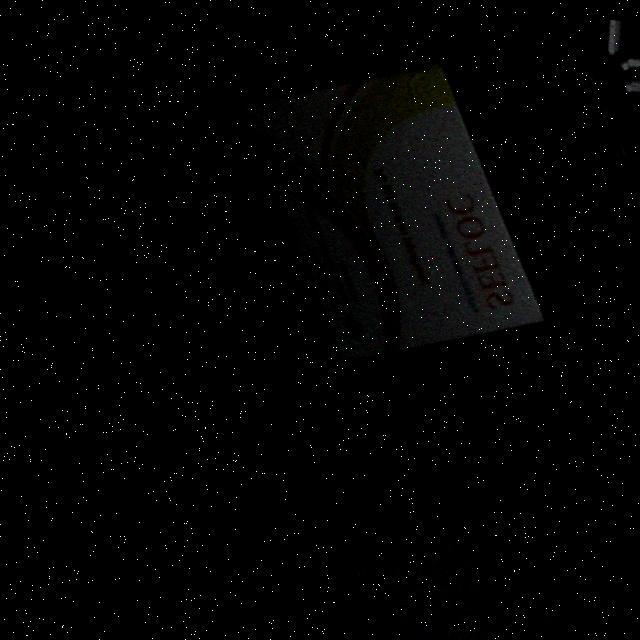medicine_name_detection: (225, 51, 558, 377)
